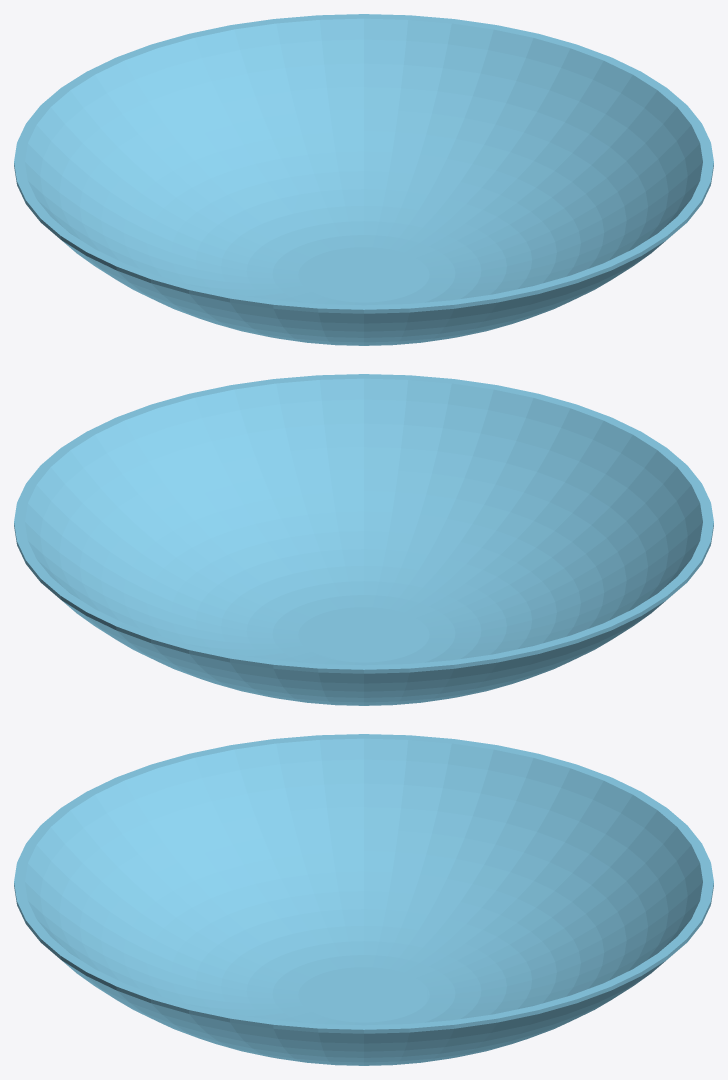
3 renders of one model, top to bottom at view 1: azimuth 30°, elevation 25°; view 2: azimuth 150°, elevation 25°; view 3: azimuth 270°, elevation 25°, orthographic.
Bounding box in the file's own units: 0.7006 × 0.1358 × 0.7006.
